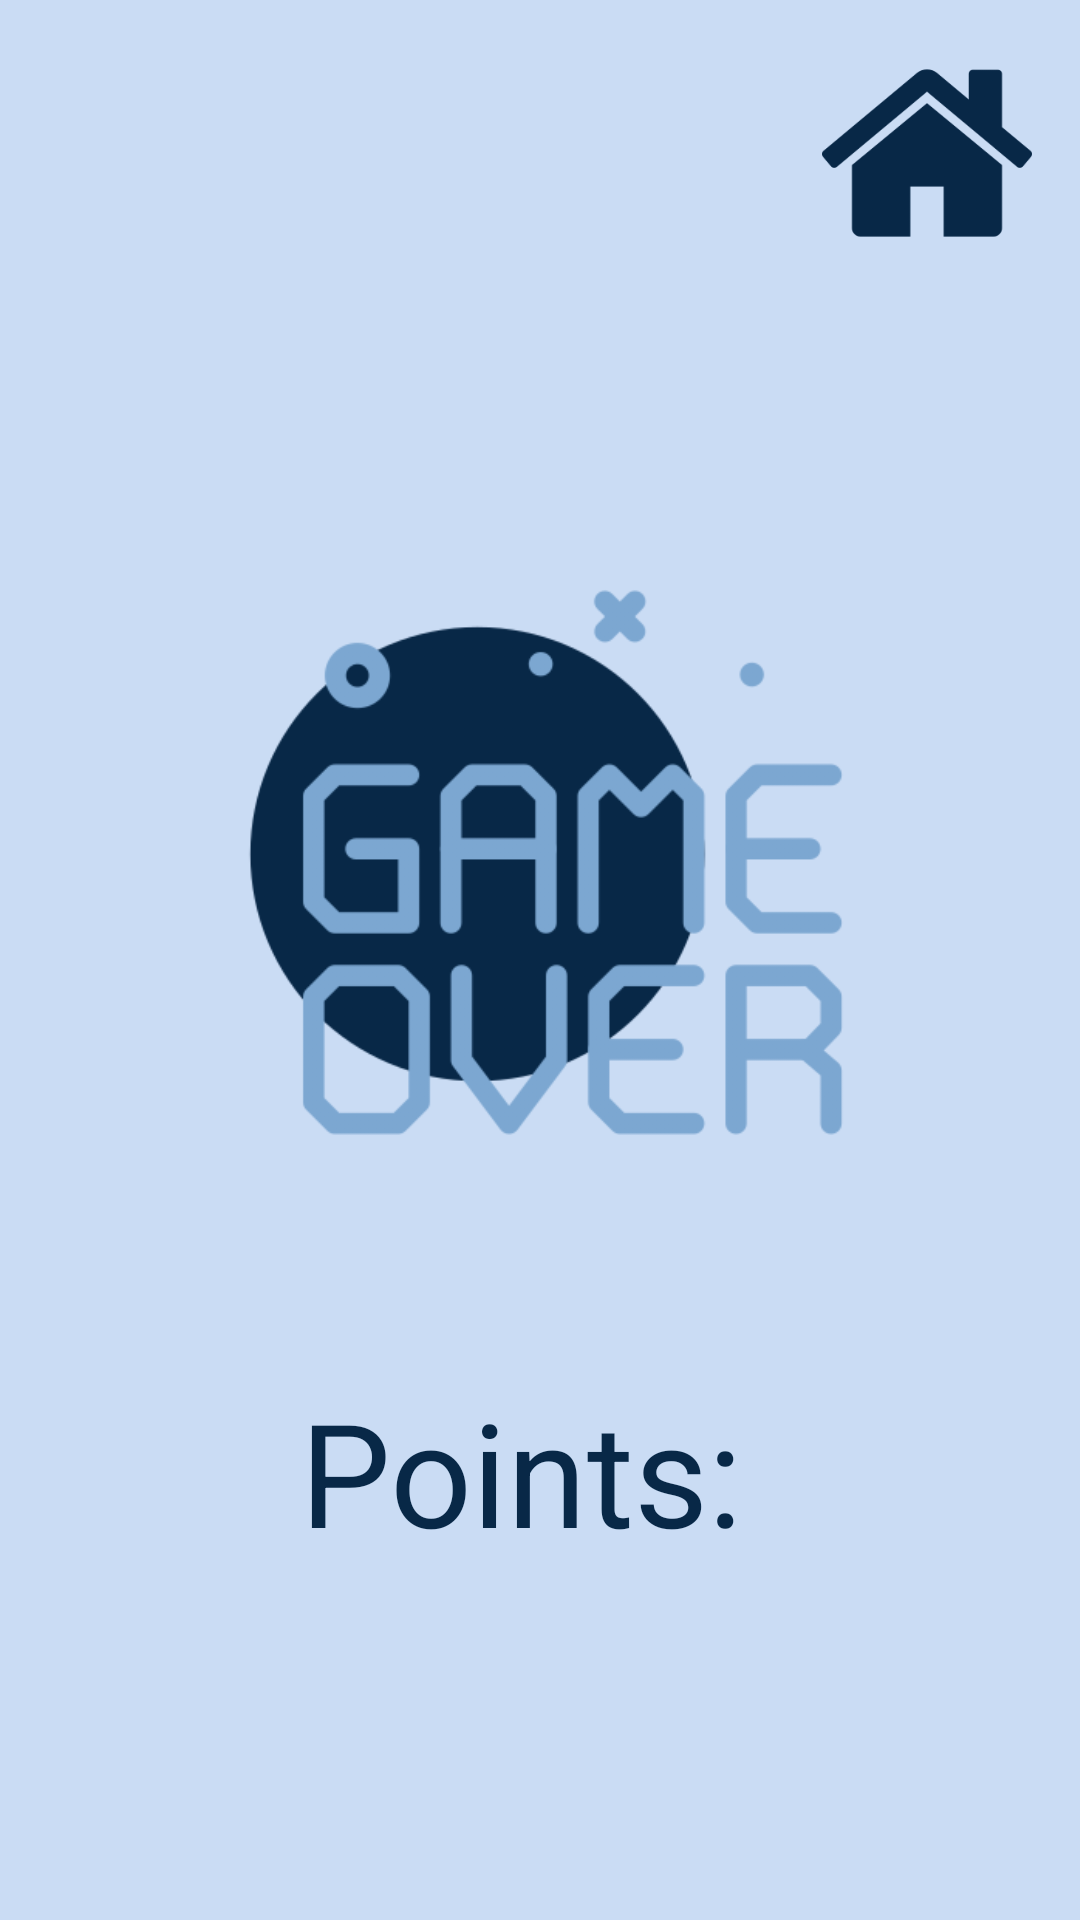

Screen size 1080px×1920px. Icon name, then its box in pixels as (x1, y1, x2, y2):
home: (822, 69, 1032, 237)
